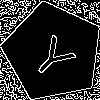Y: (28, 27, 84, 83)
